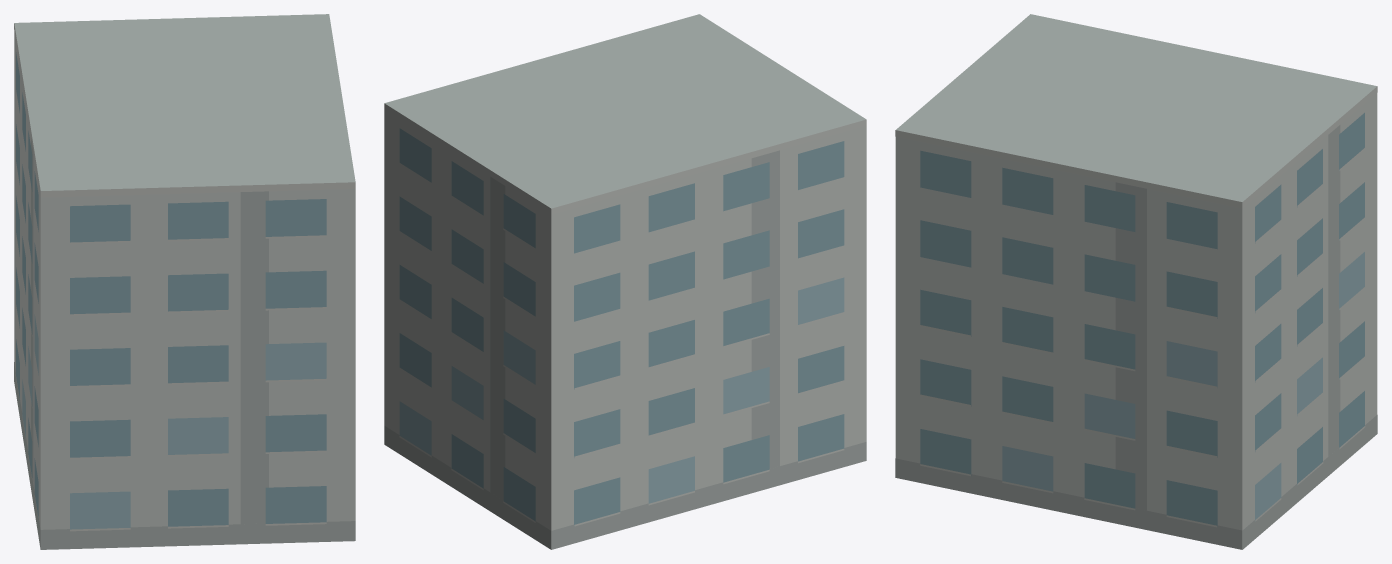
Rendered from survey-upis-32885190.glb.
3 renders of one model, left to right at view 1: azimuth 30°, elevation 25°; view 2: azimuth 150°, elevation 25°; view 3: azimuth 270°, elevation 25°, orthographic. The views are drawn at different scales.
Parts seen in each view (by area): view 1: survey-upis-32885190.tmp; view 2: survey-upis-32885190.tmp; view 3: survey-upis-32885190.tmp.
Part boxes in pixels (x1,y1,x2,y2): survey-upis-32885190.tmp: (14, 14, 355, 549); survey-upis-32885190.tmp: (384, 14, 866, 549); survey-upis-32885190.tmp: (895, 14, 1377, 549).
Size of the model in its own units: 15.21 by 13.1 by 16.46.
